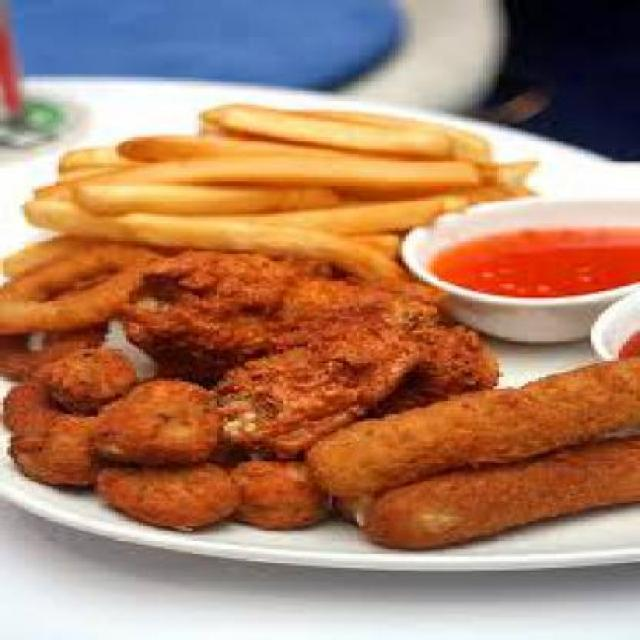chicken wings: (115, 231, 511, 454)
french fries: (14, 94, 563, 260)
onion rings: (3, 235, 168, 358)
